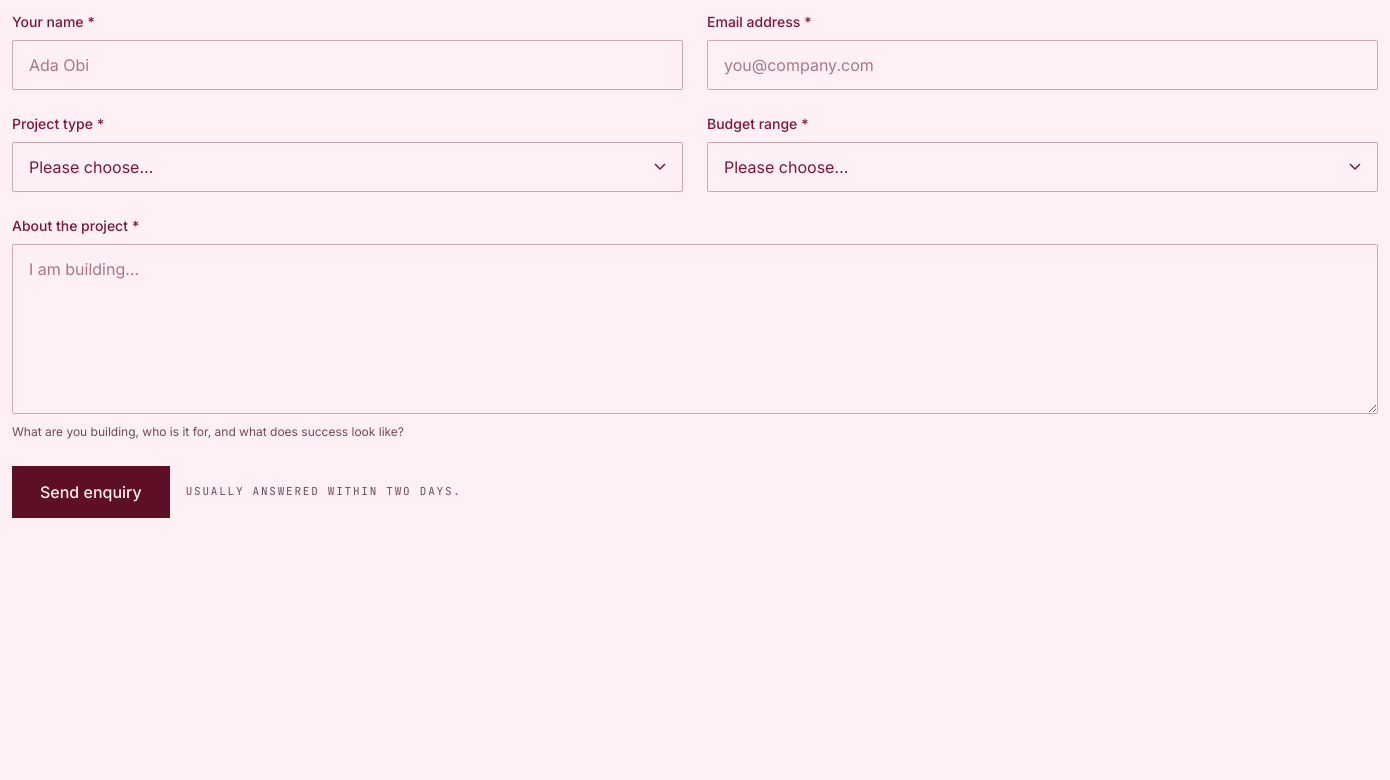
Test: validation › shows a message for each invalid field and marks it invalid
Type "A" into the field labelled "Your name*" at coordinates (348, 65), box [12,40,683,90]
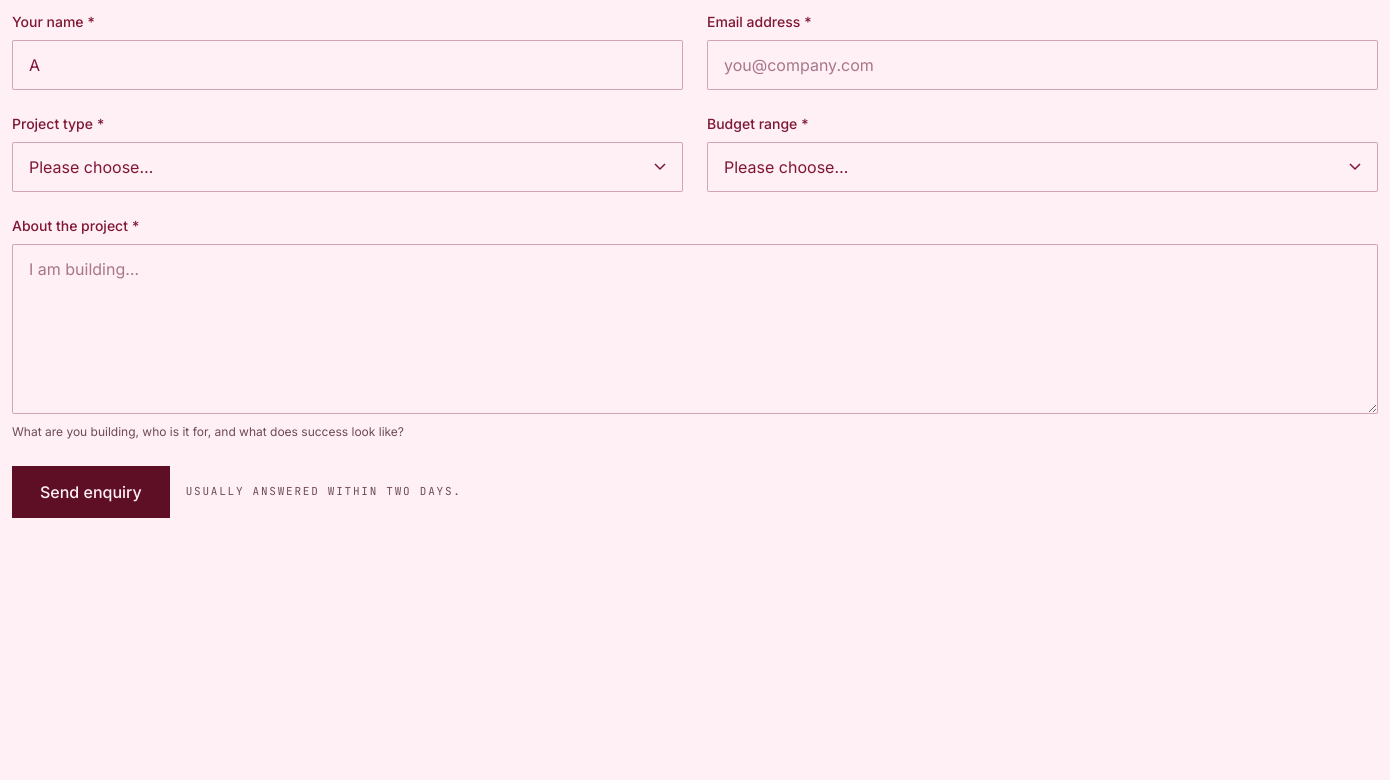
Click the button "Send enquiry" at coordinates (91, 492), box [12,466,170,518]
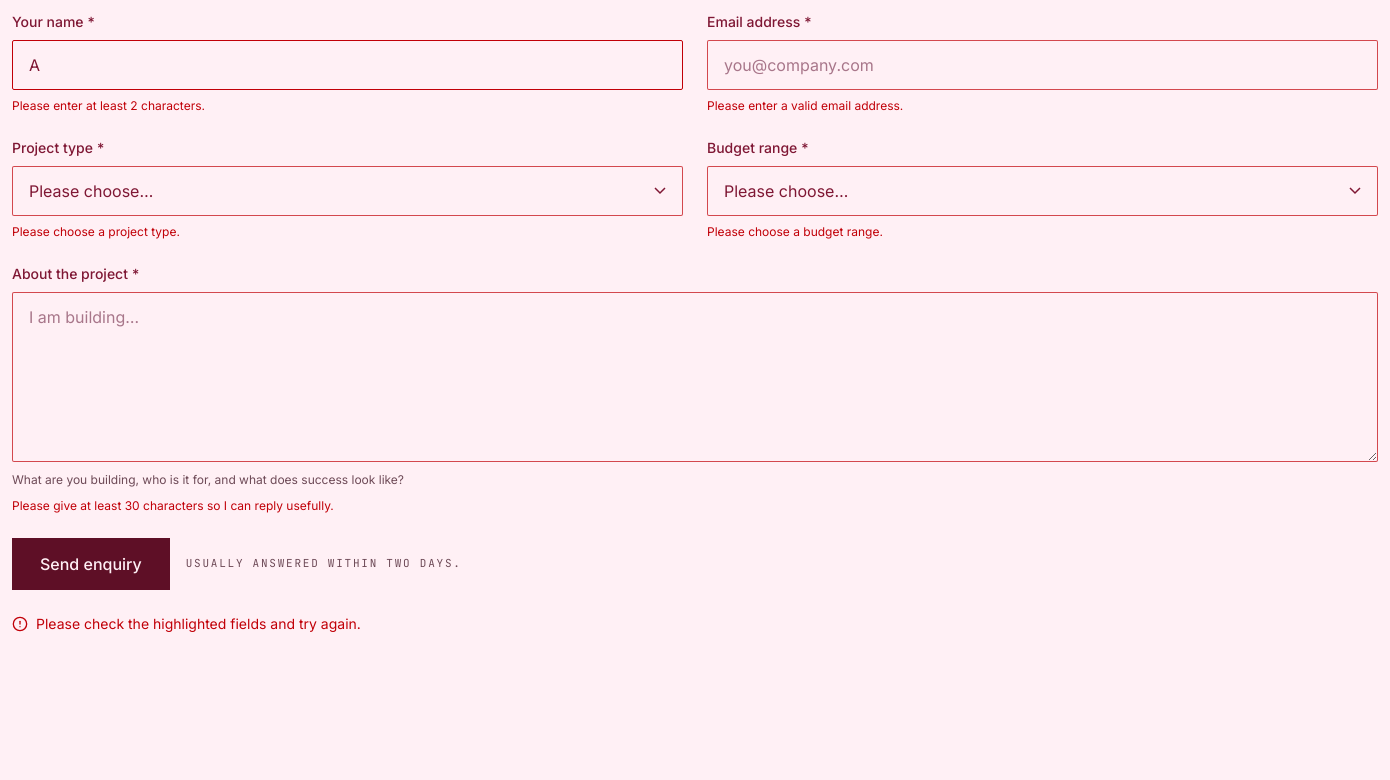
Check: the text "Please check the highlighted fields and try again." is shown, box [12,614,361,632]
